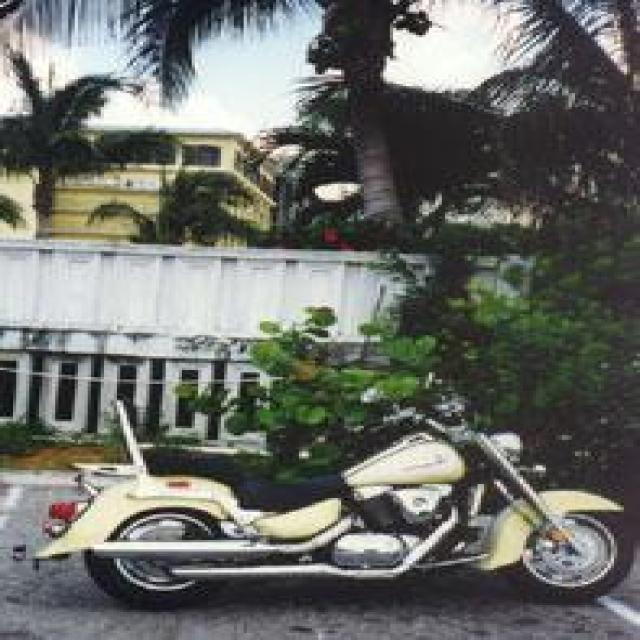Motorcycle: (43, 386, 637, 606)
